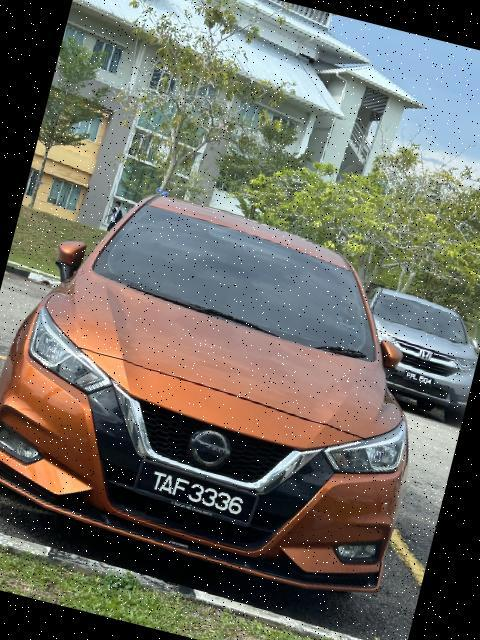License_Plate: (129, 453, 268, 538), (404, 368, 439, 394)
TAF3336: (129, 453, 268, 538)
